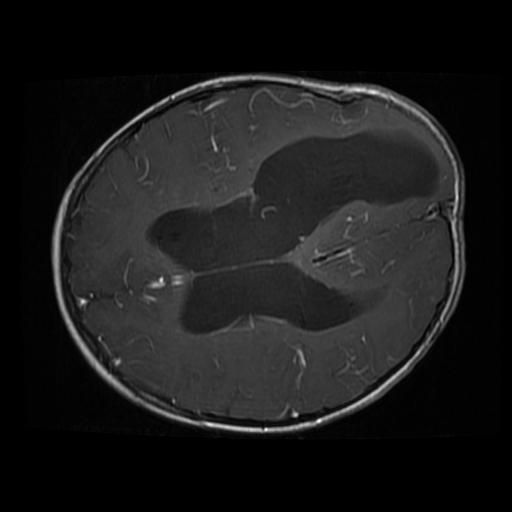glioma: (244, 129, 437, 248)
